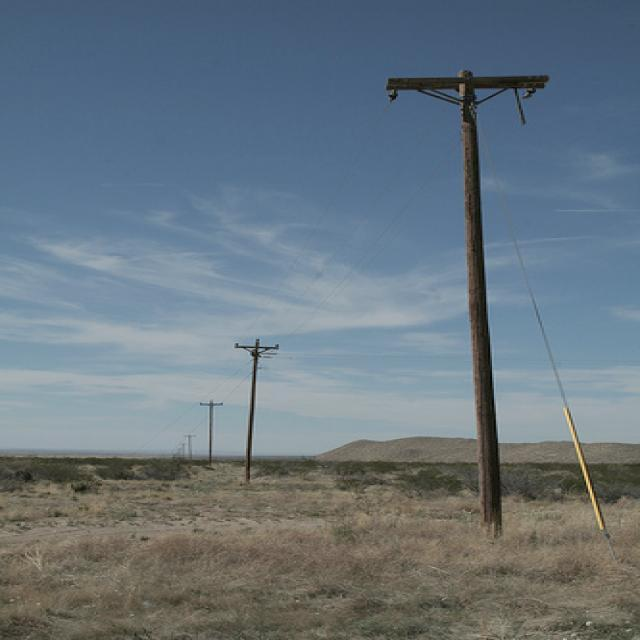crossarm: (384, 70, 550, 105)
pole: (457, 69, 505, 541)
wire: (494, 179, 603, 524)
